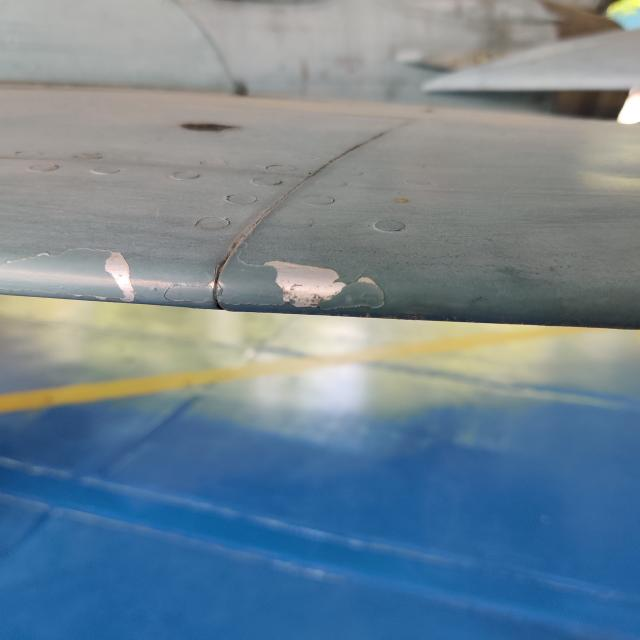paint-off: (254, 241, 363, 320), (86, 239, 152, 309)
